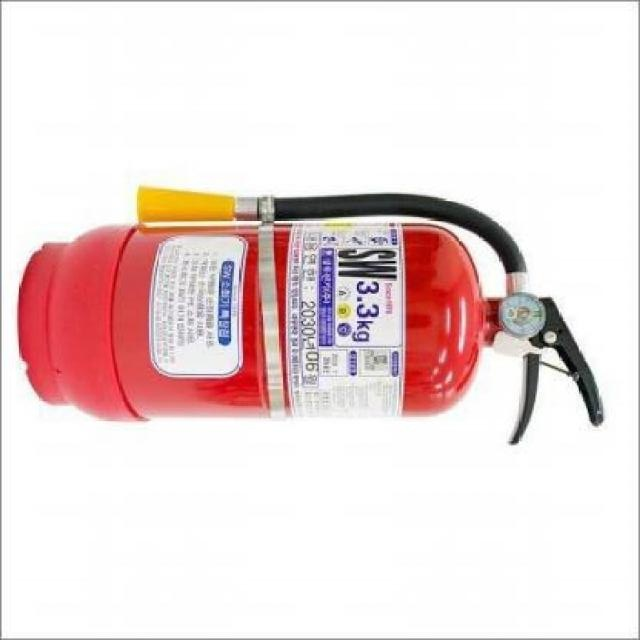fire extinguisher: (18, 183, 605, 445)
